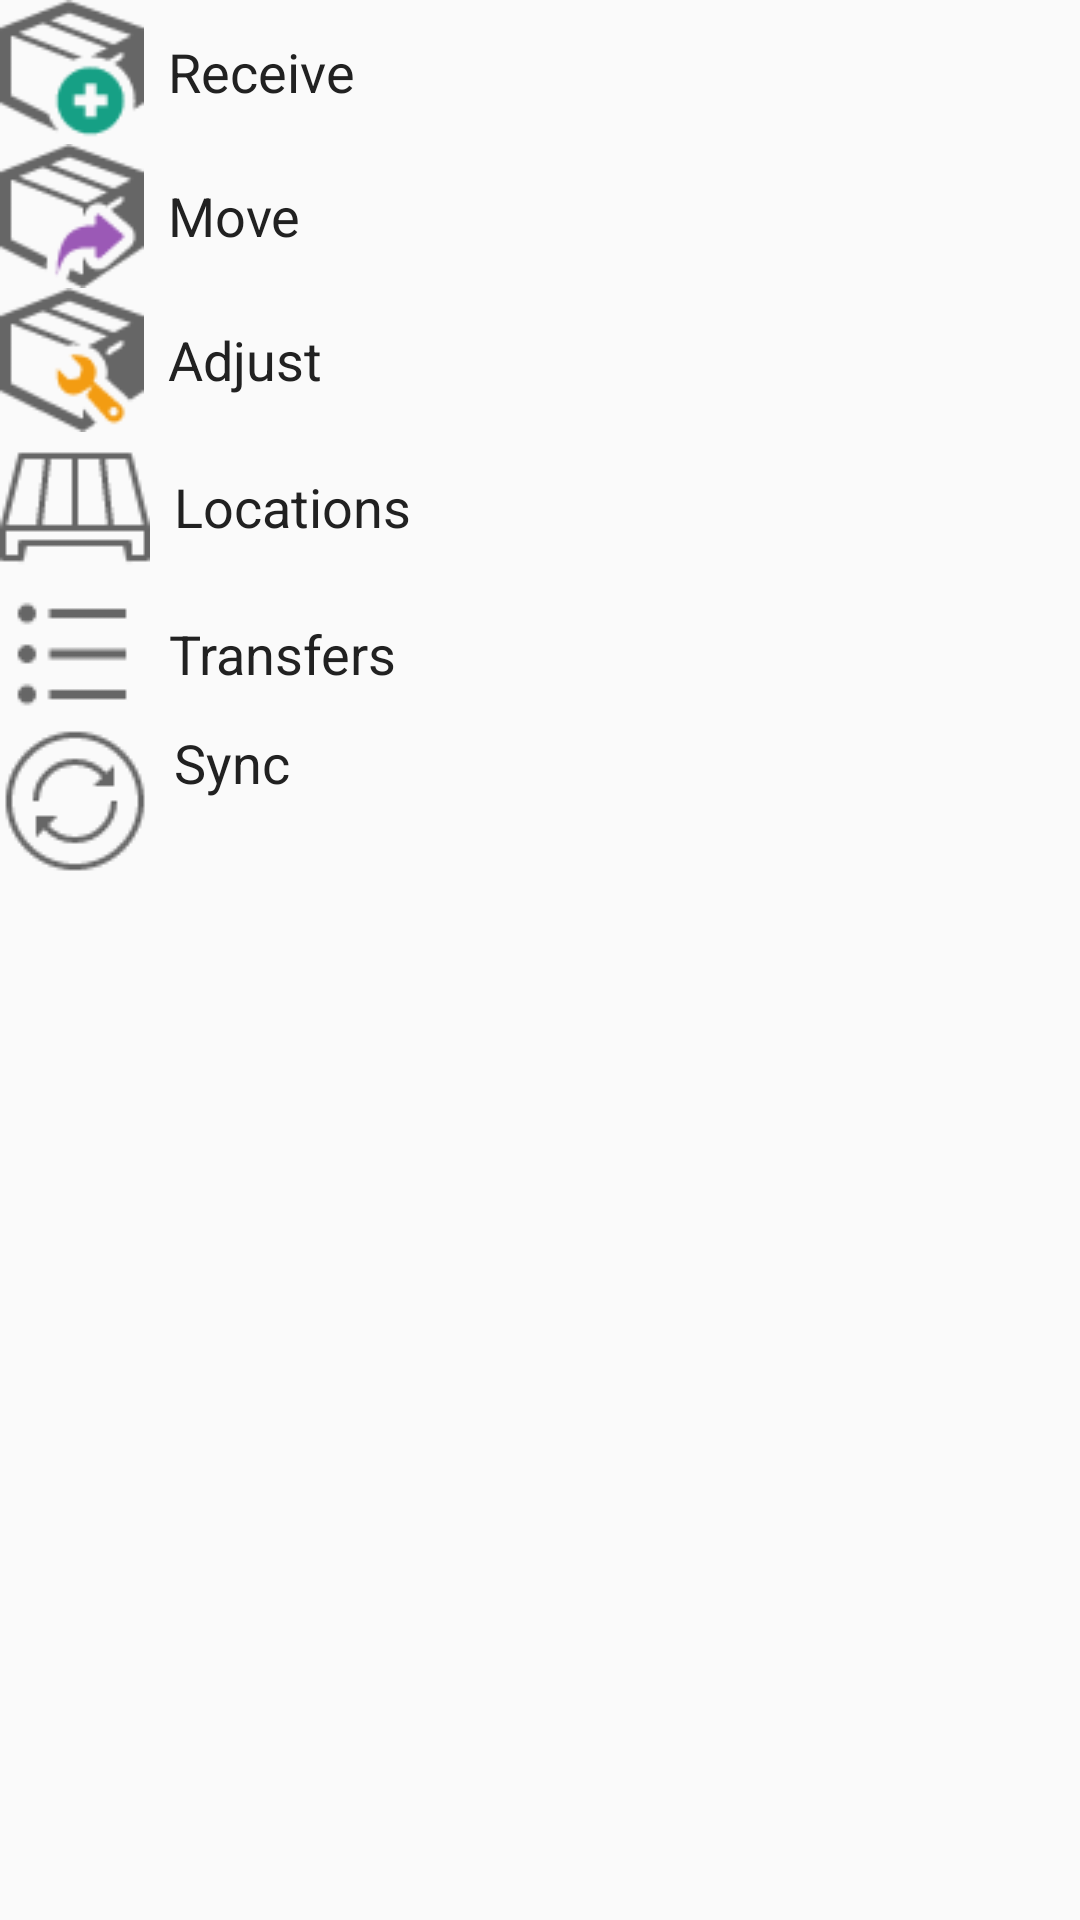

Named icons in this screenshot (1080px x 1920px) and their bounding boxes, (x1, y1, x2, y2):
list: (17, 603, 127, 705)
